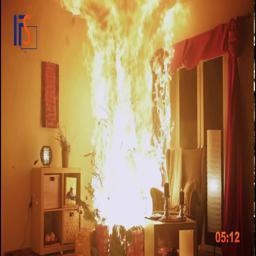fire: (60, 0, 184, 241)
